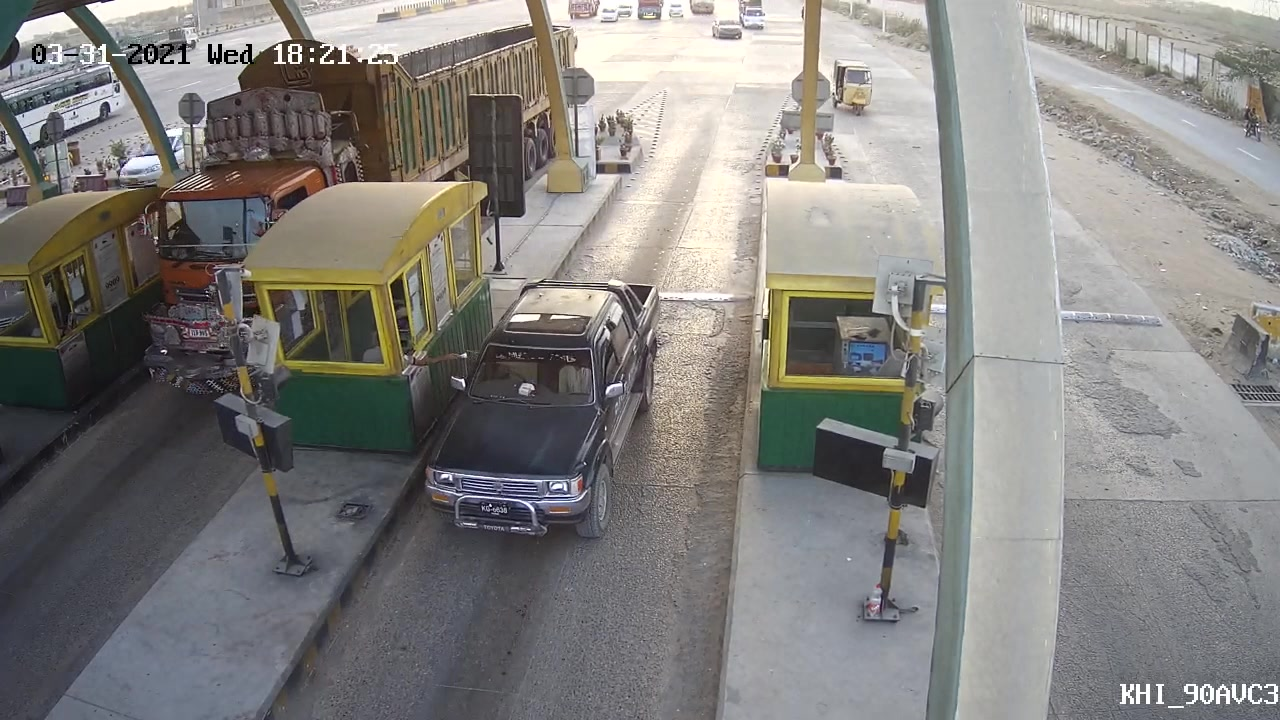F1: (418, 267, 670, 538)
